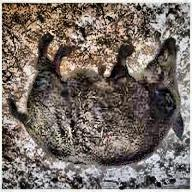boar: (0, 28, 192, 185)
